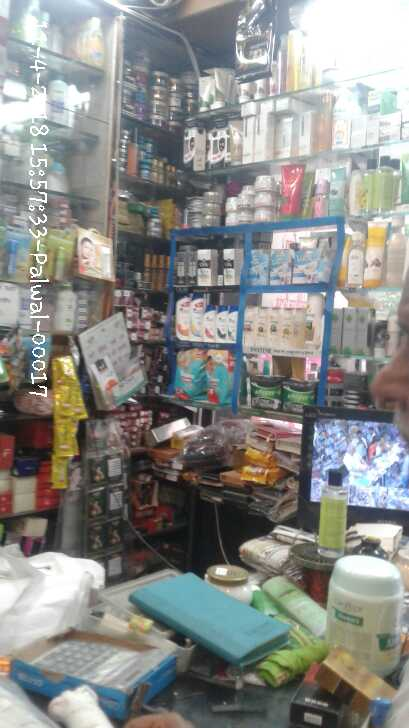venus: (292, 246, 335, 285), (247, 249, 268, 285), (270, 251, 290, 285)
